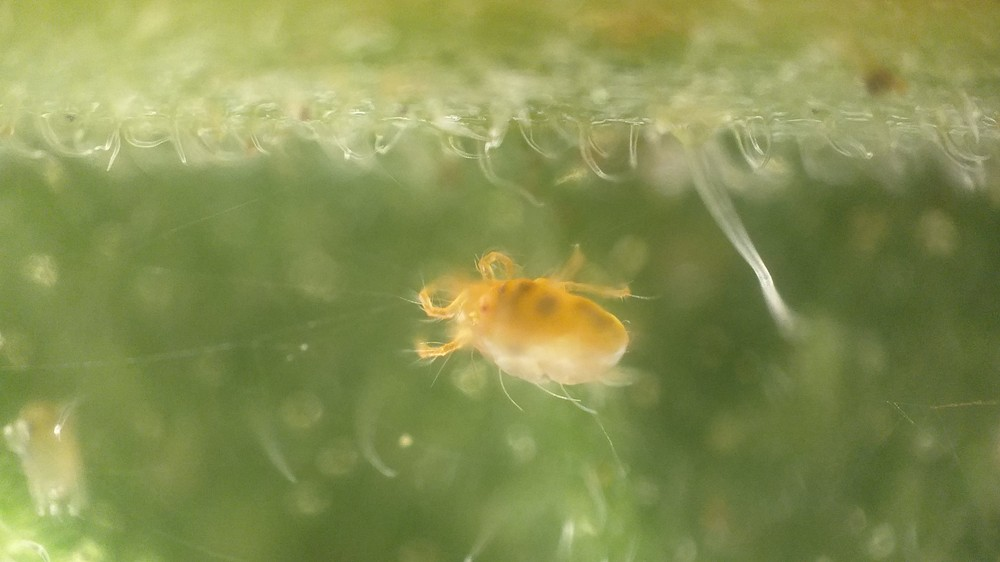Aracnido Rojo: (378, 227, 670, 441)
